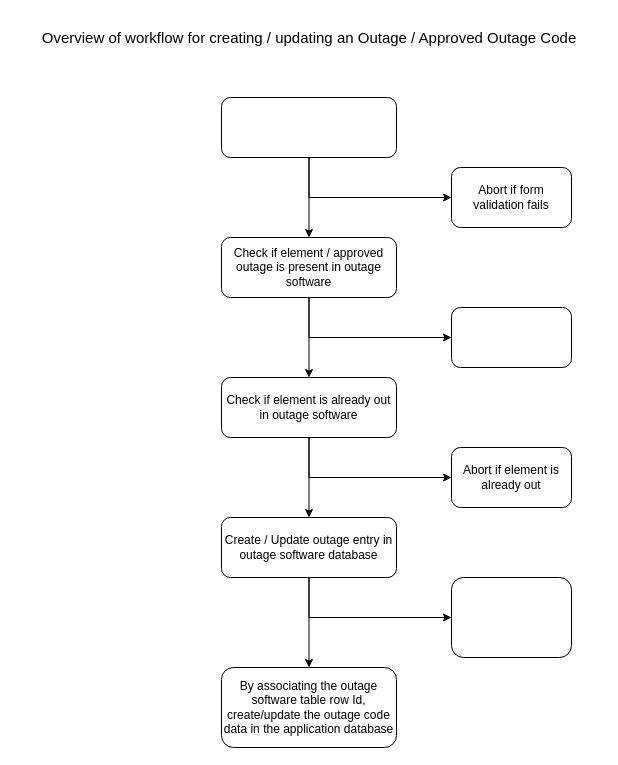
Some shapes in this 618 by 765 pixel diagram are drawn without their labels. The shapes that lost their labels are listed below. From the top down, each one's centre as x and y in pixels, then its label:
At [308,127]: "basic validation of form inputs".
At [511,337]: "Abort if element is absent".
At [511,617]: "Abort if unable to create/update outage data in outage software".
